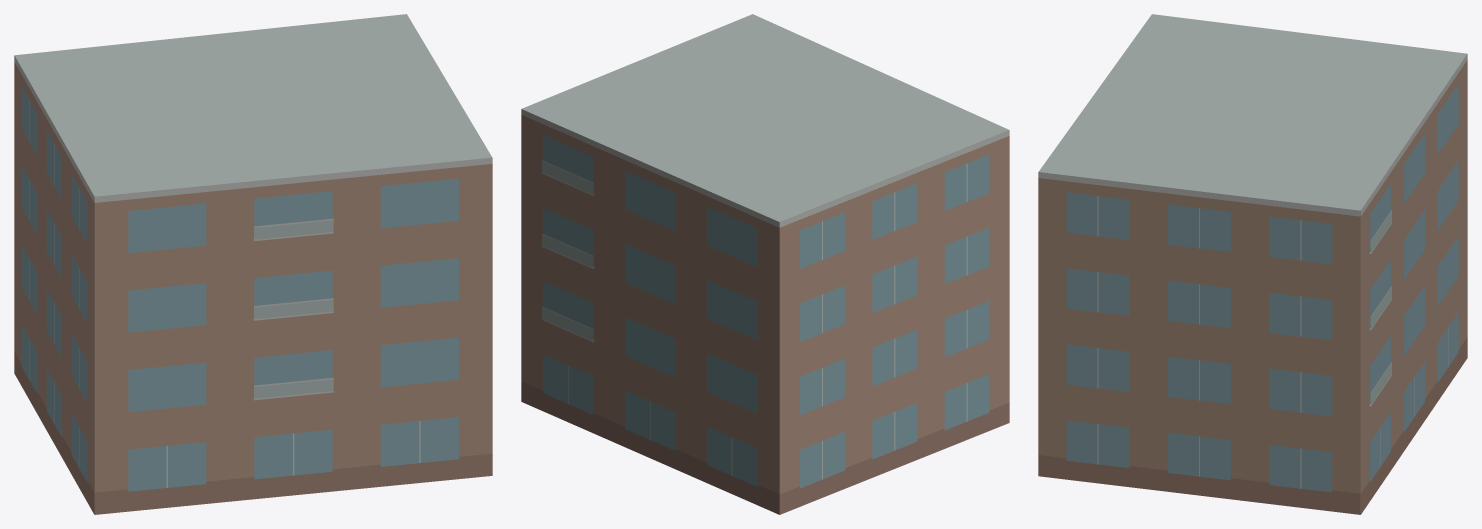
Rendered from survey-upis-32856516.glb.
3 views of the same model, side by side, from view 1: azimuth 30°, elevation 25°; view 2: azimuth 150°, elevation 25°; view 3: azimuth 270°, elevation 25° (orthographic). The views are drawn at different scales.
Visible parts, largest first — view 1: survey-upis-32856516.tmp; view 2: survey-upis-32856516.tmp; view 3: survey-upis-32856516.tmp.
Part boxes in pixels (x1,y1,x2,y2): survey-upis-32856516.tmp: [14, 14, 492, 514]; survey-upis-32856516.tmp: [521, 14, 1009, 514]; survey-upis-32856516.tmp: [1038, 14, 1467, 514].
Size of the model in its own units: 17.34 by 12.5 by 15.99.
